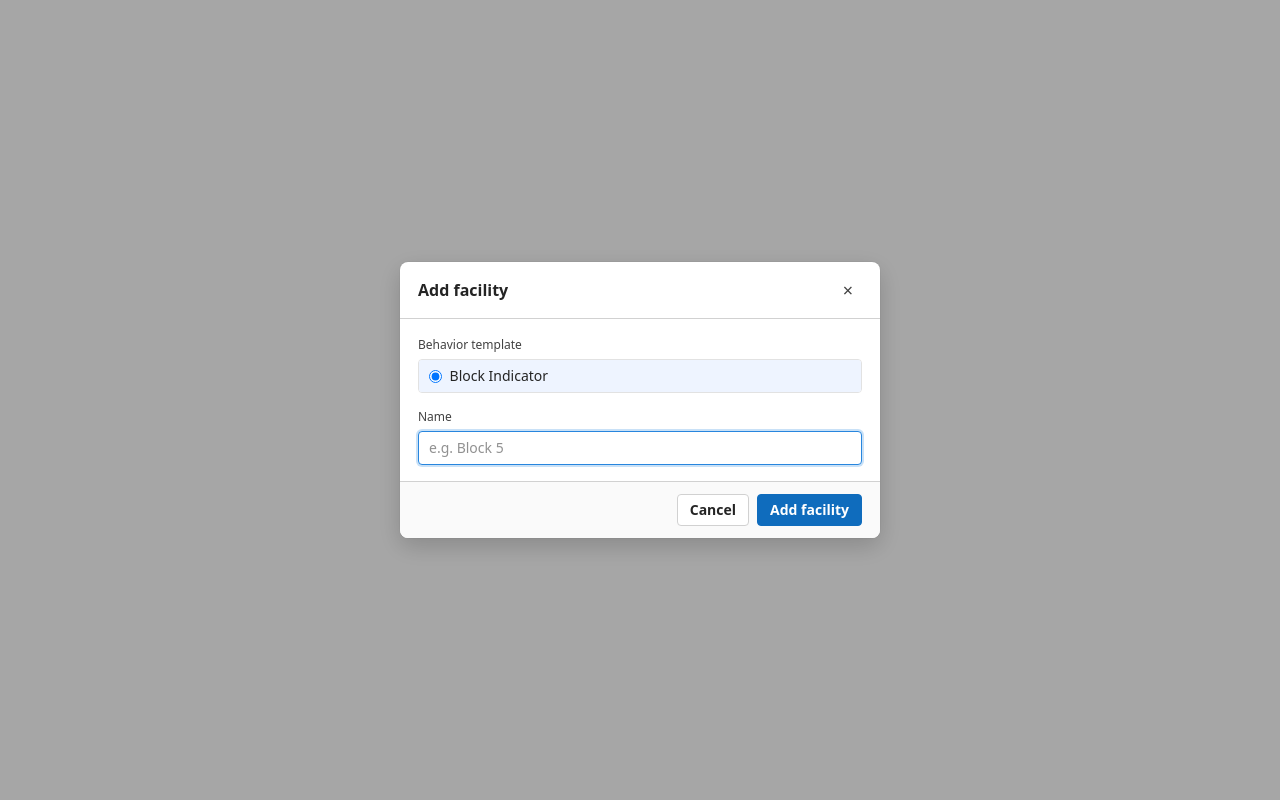
AddFacilityDialog › shows error when name is empty on confirm
Click the button "Add facility". click: click(810, 510)
box: [757, 494, 862, 526]
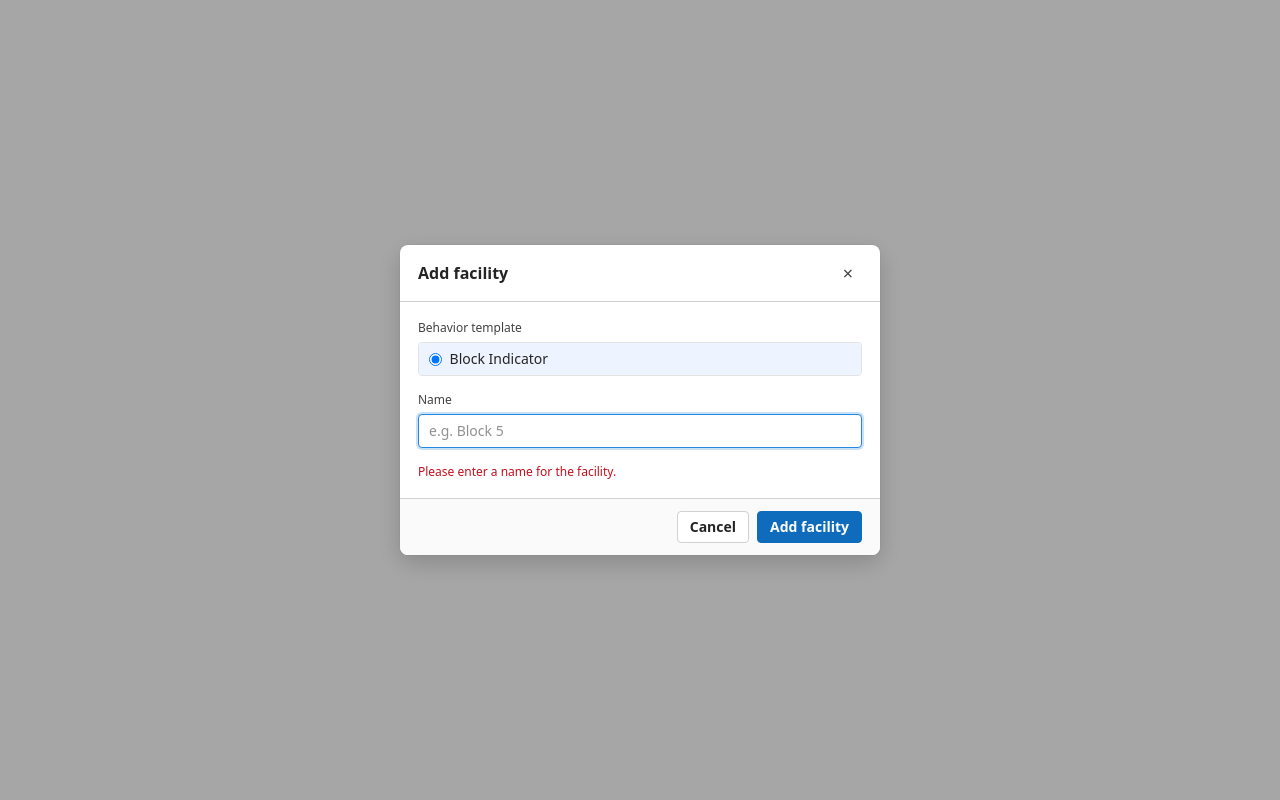
Now the message shows "enter a name", box [418, 463, 616, 480]
